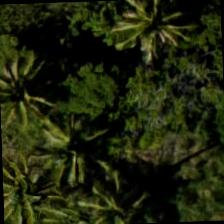Kelapa_Sawit: (12, 100, 105, 192), (0, 47, 70, 140), (115, 0, 208, 70), (71, 172, 165, 223), (1, 154, 65, 223)
